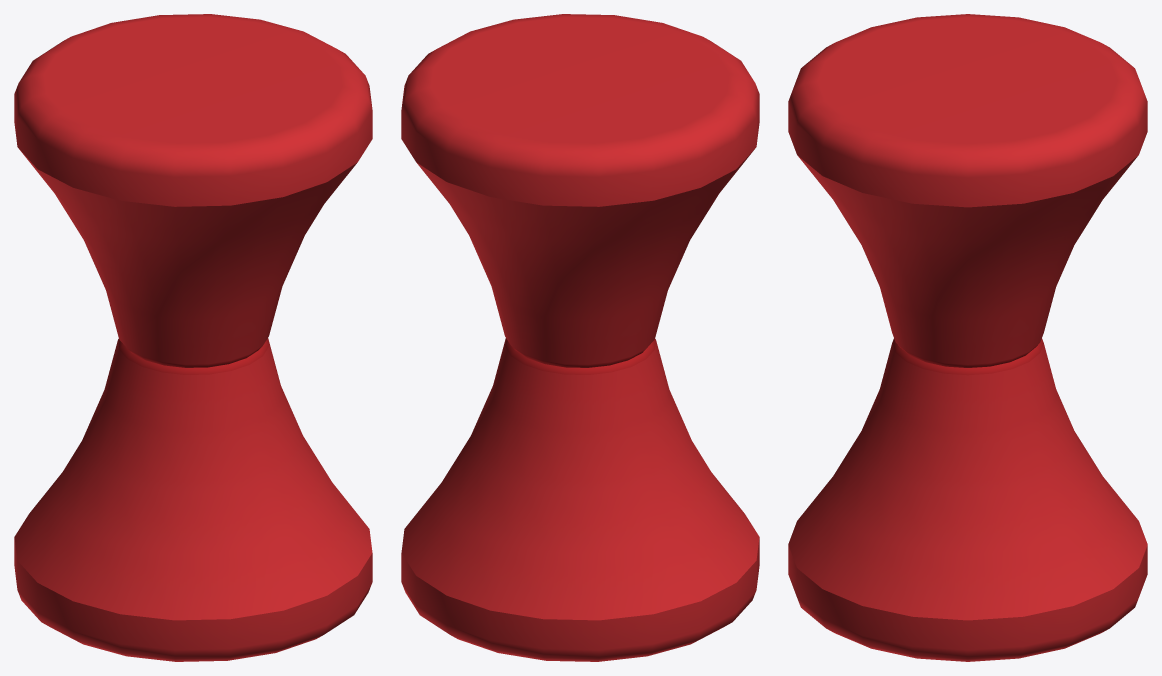
The model's file is Chair_16.glb.
The picture shows the model from 3 angles, left to right: view 1: azimuth 30°, elevation 25°; view 2: azimuth 150°, elevation 25°; view 3: azimuth 270°, elevation 25°; orthographic projection.
Parts seen in each view (by area): view 1: Chair_16; view 2: Chair_16; view 3: Chair_16.
Part boxes in pixels (<box>): Chair_16: <box>14,14,372,661</box>; Chair_16: <box>401,14,759,661</box>; Chair_16: <box>788,14,1147,661</box>.
Size of the model in its own units: 0.38 by 0.6 by 0.38.
Materials: 1 (1 with a texture image).
